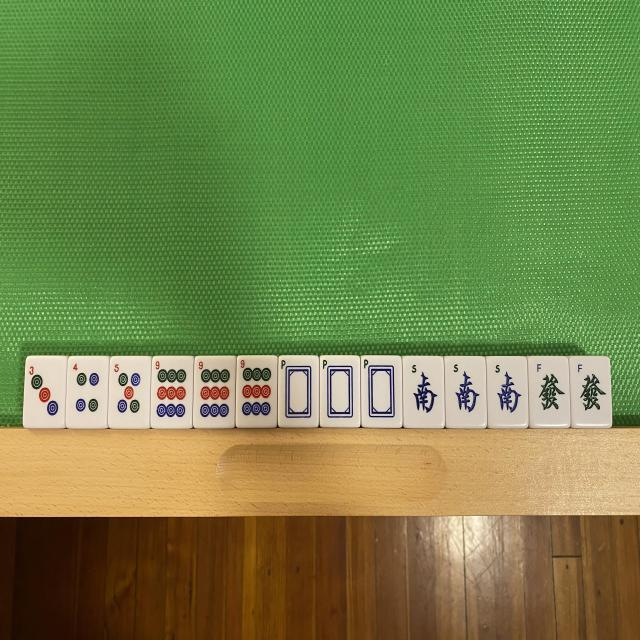hdg: (528, 357, 570, 427), (570, 358, 608, 428)
hdw: (362, 356, 402, 428), (320, 356, 360, 427), (278, 356, 318, 425)
hws: (444, 357, 486, 428), (487, 357, 527, 428), (404, 357, 444, 427)
sd3: (26, 356, 65, 427)
sd4: (68, 358, 107, 427)
sd5: (110, 358, 149, 428)
sd9: (236, 356, 276, 428), (195, 356, 235, 426), (152, 357, 192, 427)
